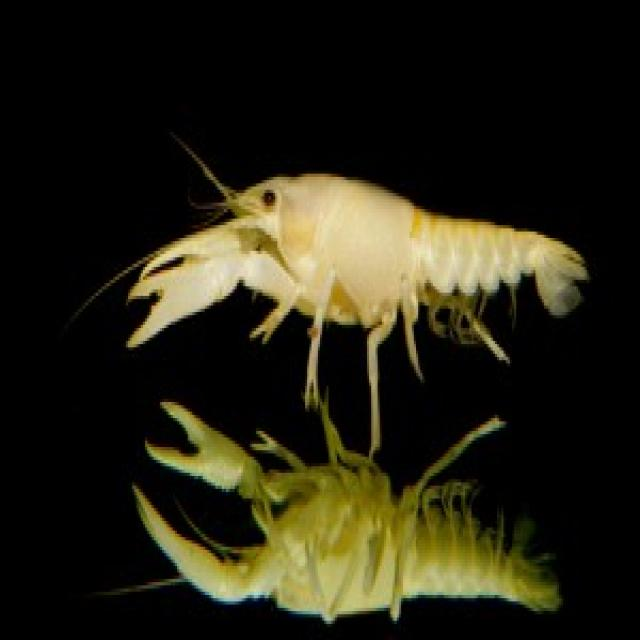lobsters: (96, 50, 628, 368), (31, 366, 633, 640)
